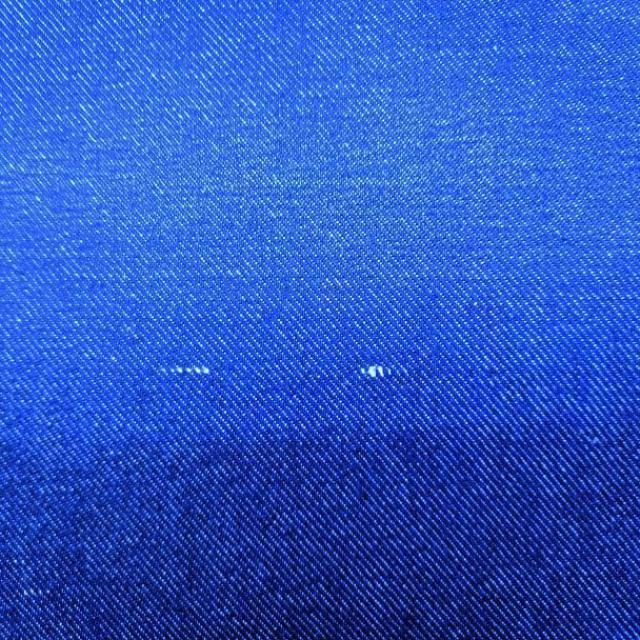Knot: (360, 364, 407, 379), (162, 365, 211, 376)
